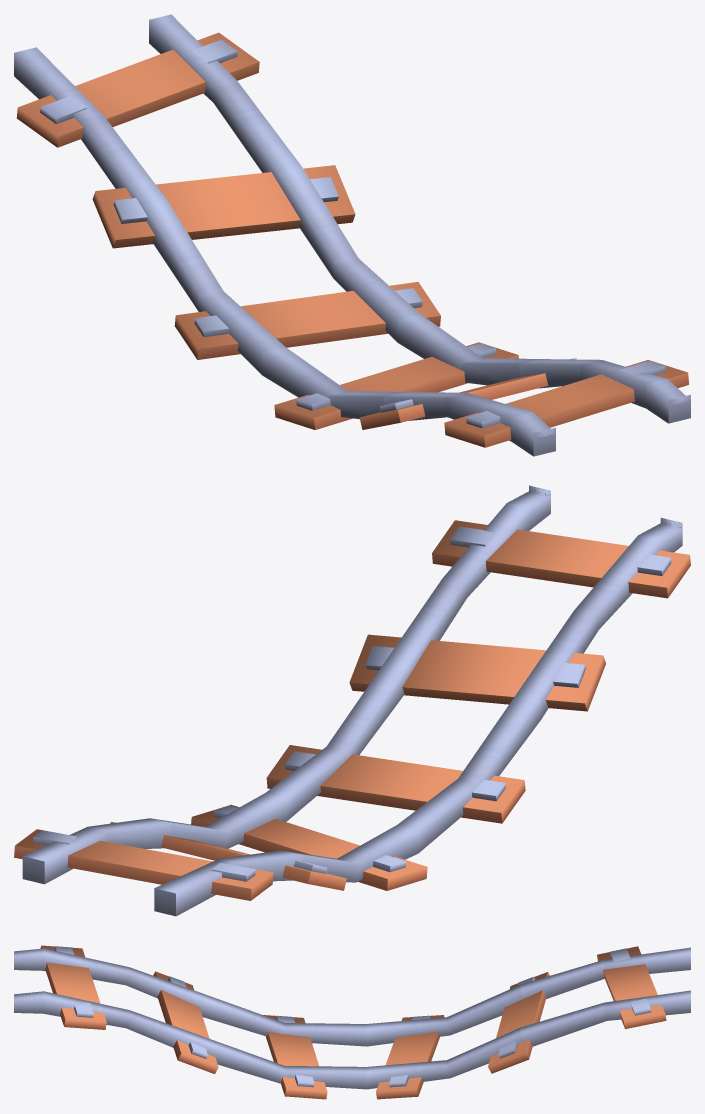
File: kenney-train-railroad-damaged-straight-bump-down.glb
3 renders of one model, top to bottom at view 1: azimuth 30°, elevation 25°; view 2: azimuth 150°, elevation 25°; view 3: azimuth 270°, elevation 25°, orthographic. The views are drawn at different scales.
Parts seen in each view (by area): view 1: railroad-damaged-straight-bump-down; view 2: railroad-damaged-straight-bump-down; view 3: railroad-damaged-straight-bump-down.
Part boxes in pixels (box(x1,y1,x2,y2)): railroad-damaged-straight-bump-down: box(14, 14, 690, 456); railroad-damaged-straight-bump-down: box(14, 485, 690, 916); railroad-damaged-straight-bump-down: box(14, 945, 690, 1099).
Bounding box in the file's own units: 1.03 × 0.606 × 4.
1 material, 1 textured.
